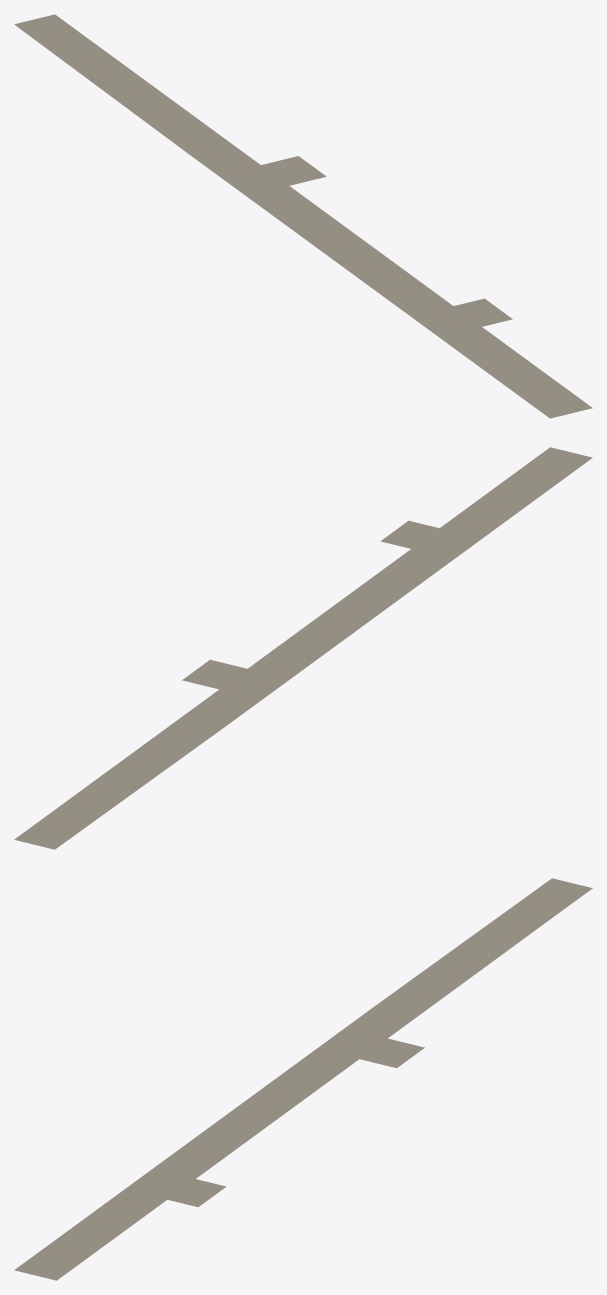
The model's file is SM_GCG_Sand_07.fbx.
The picture shows the model from 3 angles, top to bottom: view 1: azimuth 30°, elevation 25°; view 2: azimuth 150°, elevation 25°; view 3: azimuth 330°, elevation 25°; orthographic projection.
Parts seen in each view (by area): view 1: SM_GCG_Sand_07; view 2: SM_GCG_Sand_07; view 3: SM_GCG_Sand_07.
Boxes of the visible parts, bbox=[...] form: SM_GCG_Sand_07: bbox=[14, 14, 592, 418]; SM_GCG_Sand_07: bbox=[14, 447, 592, 849]; SM_GCG_Sand_07: bbox=[14, 878, 592, 1280].
Size of the model in its own units: 278 by 3220 by 3.38e-06.
1 material, 1 textured.
